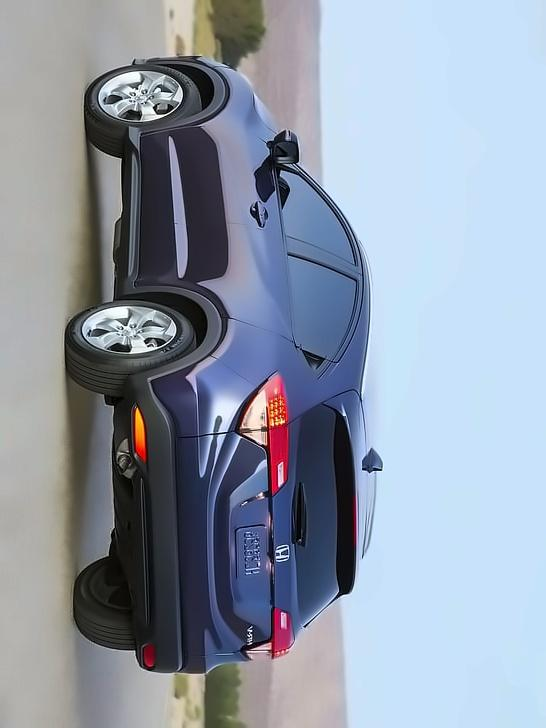Car boot: (207, 386, 368, 650)
Fender - -F-L-: (117, 91, 302, 153)
Fender - -R-L-: (146, 312, 339, 433)
Front bumper: (123, 46, 231, 73)
Passenger-s door - -F-L-: (119, 149, 367, 269)
Passenger-s door - -R-L-: (109, 222, 371, 360)
Rear bumper: (101, 353, 258, 680)
Rear light - -L-: (230, 372, 293, 494)
Rear light - -R-: (243, 608, 301, 662)
Side bumper - -L-: (105, 128, 181, 296)
Side mirror - -L-: (269, 130, 305, 173)
